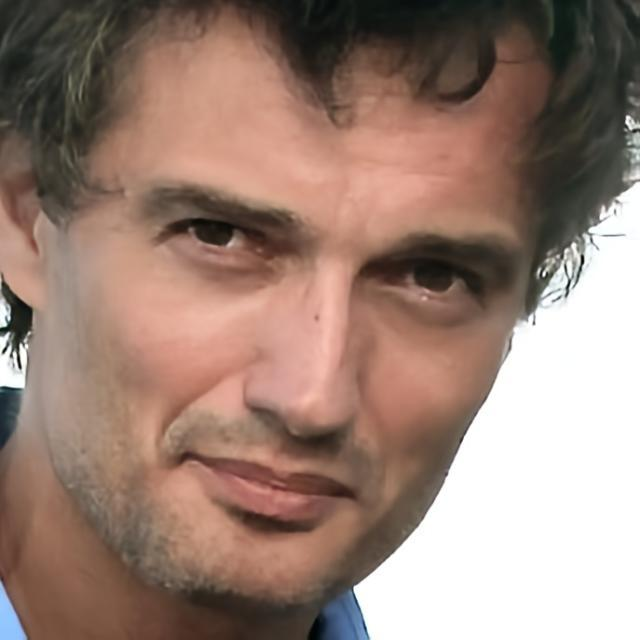content: (42, 0, 558, 614)
